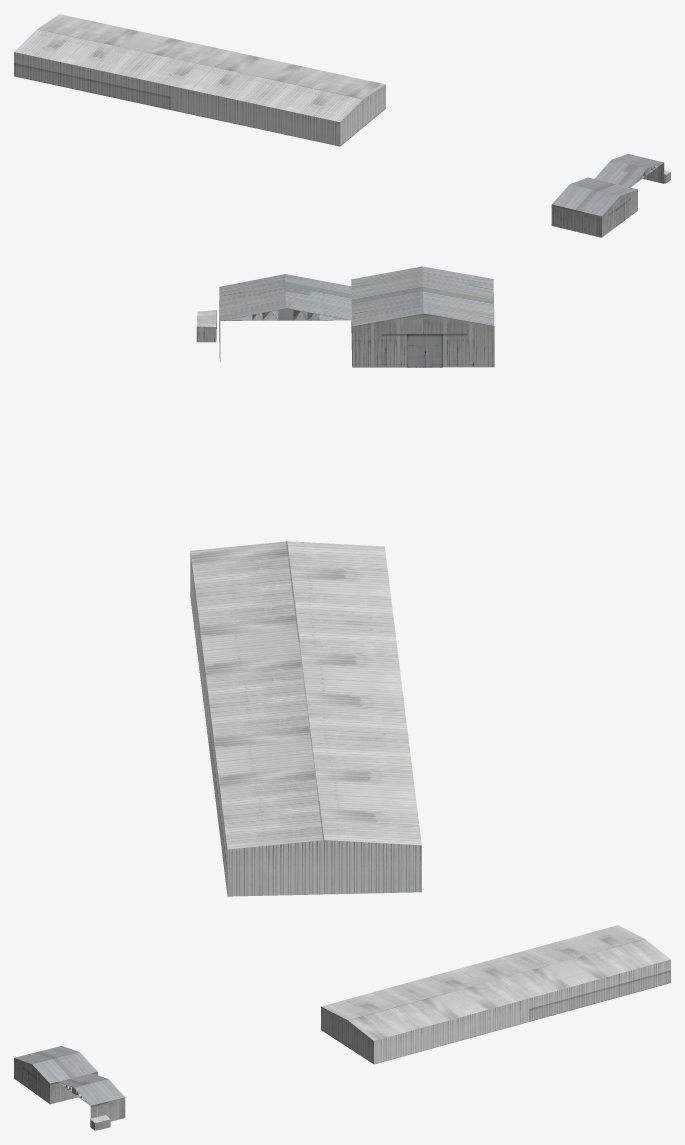
The model's file is llmg_bld4.gltf.
3 renders of one model, top to bottom at view 1: azimuth 30°, elevation 25°; view 2: azimuth 150°, elevation 25°; view 3: azimuth 270°, elevation 25°, orthographic. The views are drawn at different scales.
Visible parts, largest first — view 1: node1; view 2: node1; view 3: node1.
Part boxes in pixels (x1=…): node1: x1=14, y1=14, x2=670, y2=237; node1: x1=190, y1=266, x2=494, y2=896; node1: x1=14, y1=925, x2=670, y2=1130.
Size of the model in its own units: 89.52 by 6.22 by 136.
